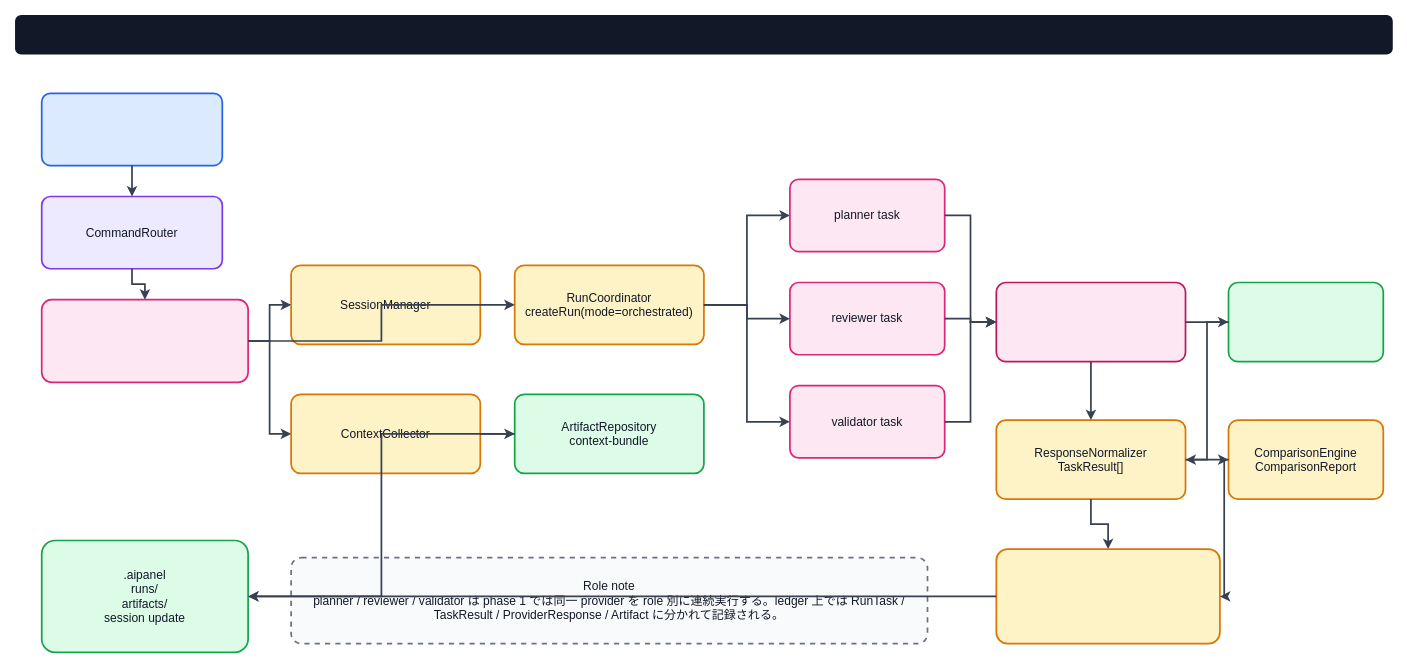
This 1407x667 diagram has some shape labels left out. Here are the shapes that lost their labels. From the top down, the centre of each, then its label:
pixel 703 34: Orchestrated Flow: debug
pixel 131 129: CLI command debug
pixel 144 340: DebugUseCase
pixel 1090 321: ProviderRegistry ClaudeCodeAdapter
pixel 1305 321: ArtifactRepository per-task outputs
pixel 1107 596: RunCoordinator save appendAssistantTurn finalSummary
